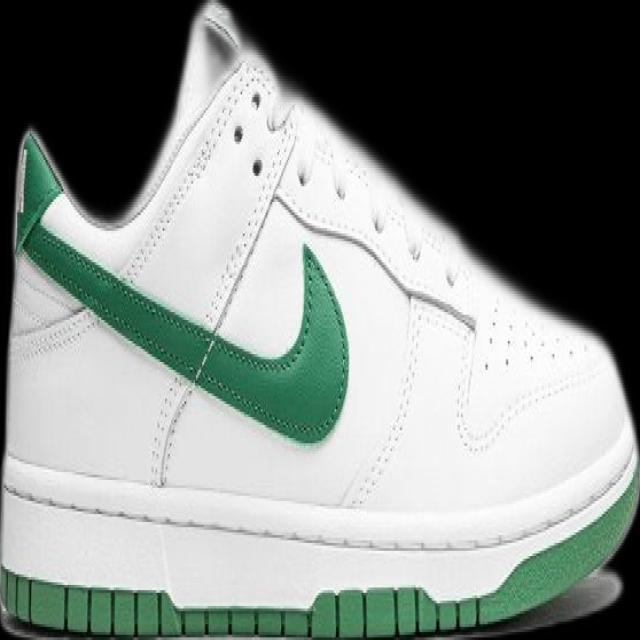J1_InsoleChar: (1, 2, 637, 637)
J1_StitchPattern: (136, 70, 482, 497), (22, 62, 300, 478), (275, 178, 477, 509), (2, 459, 635, 556), (146, 105, 298, 486), (4, 572, 481, 637), (276, 186, 476, 334), (203, 104, 298, 336), (339, 292, 429, 508), (147, 380, 194, 487)
